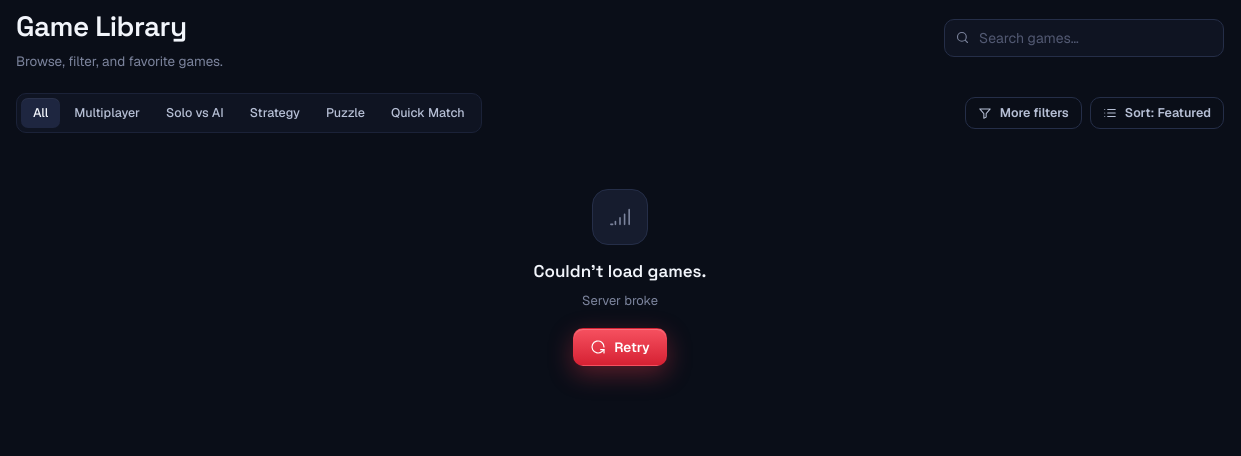
LibraryPage › shows an error state with retry on load failure, and retry re-fetches
expect the text "Server broke" is shown: met, box x1=582 y1=292 x2=658 y2=309
Click the button "Retry" at (620, 347), box x1=573 y1=328 x2=667 y2=366
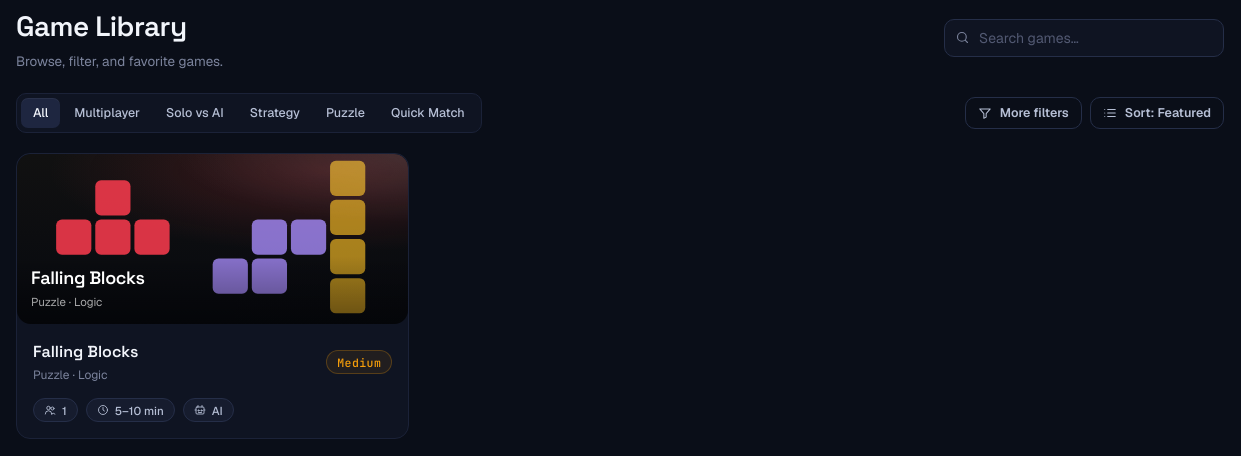
expect the 1st text "Falling Blocks" is shown: met, box x1=31 y1=266 x2=145 y2=289
